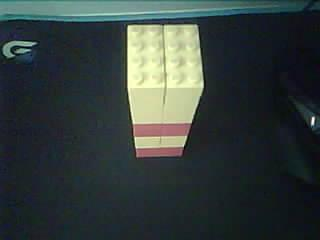lego: (128, 22, 205, 158)
